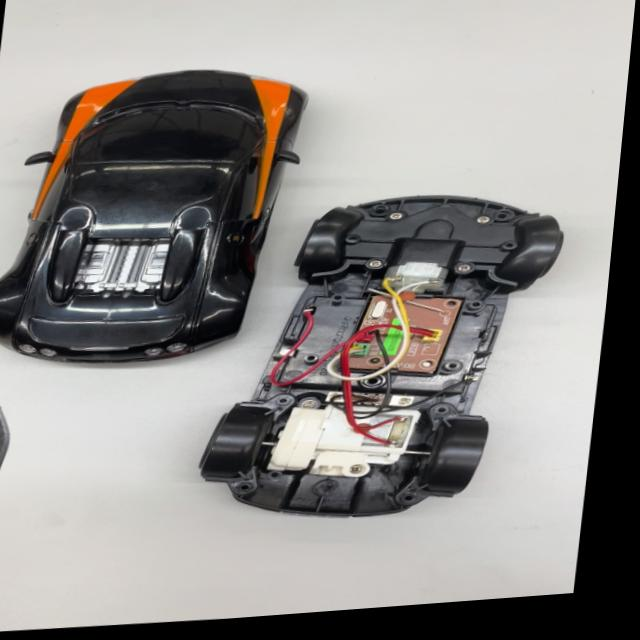Chassis: (224, 183, 553, 528)
motor: (388, 241, 448, 291)
motor_cover: (297, 191, 552, 281)
vehicle_body: (0, 59, 292, 371)
